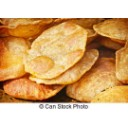poori: (26, 23, 87, 76), (68, 59, 120, 101), (4, 76, 65, 100), (1, 37, 33, 82), (91, 83, 128, 104), (94, 19, 128, 41), (117, 41, 128, 83)
